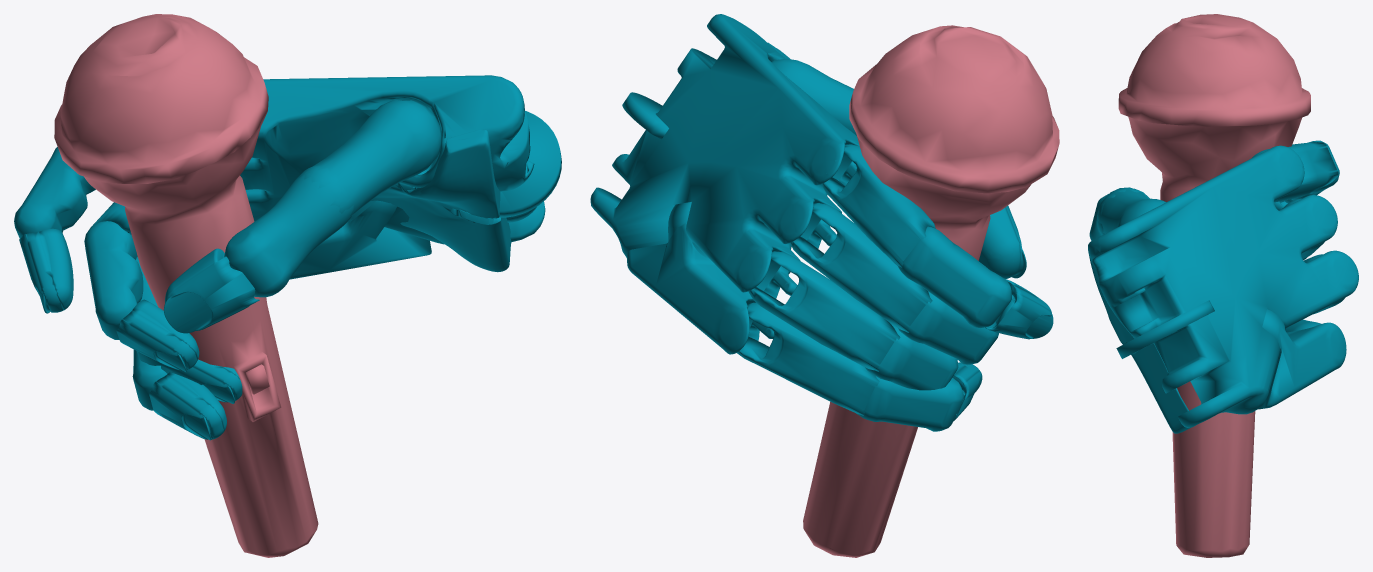
3 views of the same model, side by side, from view 1: azimuth 30°, elevation 25°; view 2: azimuth 150°, elevation 25°; view 3: azimuth 270°, elevation 25° (orthographic). The views are drawn at different scales.
Parts seen in each view (by area): view 1: world; view 2: world; view 3: world.
Boxes of the visible parts, x1,y1,x2,y2 form: world: [14, 14, 561, 557]; world: [590, 14, 1059, 557]; world: [1088, 14, 1358, 557].
Size of the model in its own units: 0.1841 by 0.2 by 0.1008.
